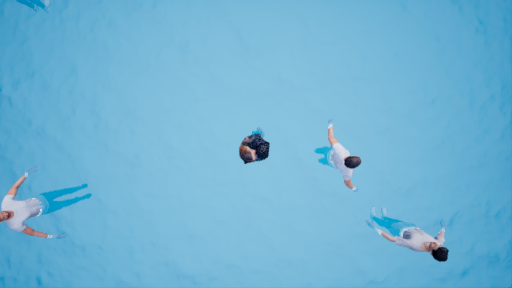person: (1, 169, 98, 243), (366, 205, 457, 261), (311, 116, 366, 191), (234, 126, 276, 170)
